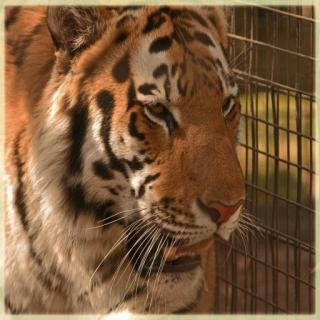Tiger: (3, 3, 277, 314)
